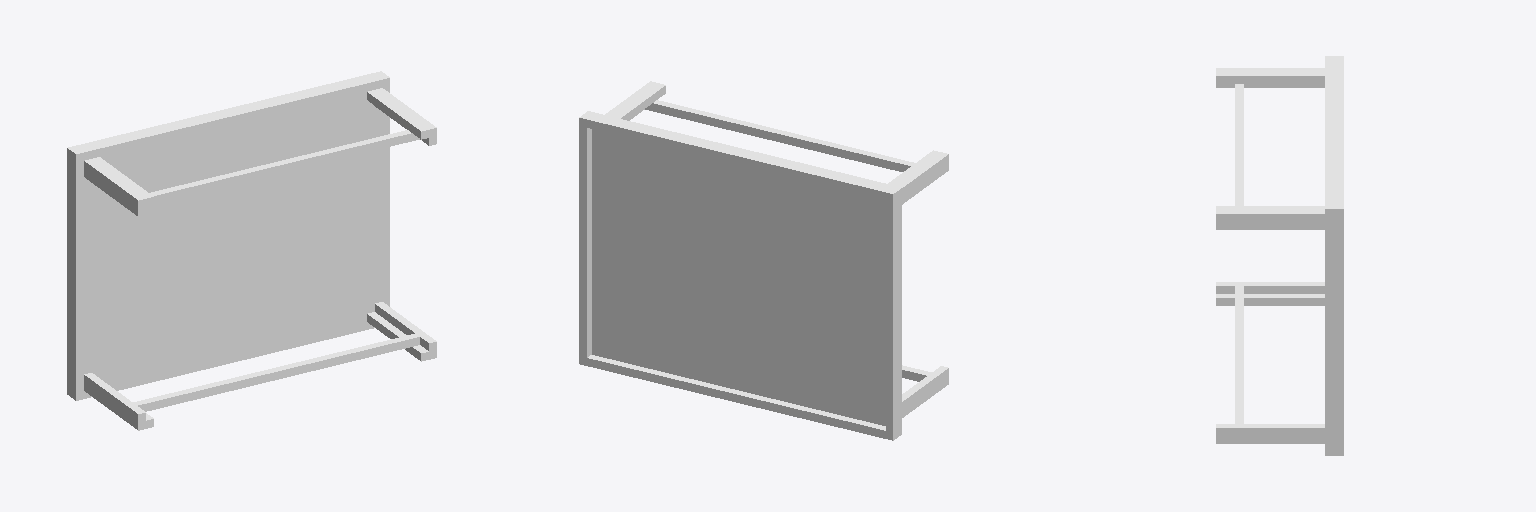
File: PongAssets-0.obj
3 renders of one model, left to right at view 1: azimuth 30°, elevation 25°; view 2: azimuth 150°, elevation 25°; view 3: azimuth 270°, elevation 25°, orthographic.
Visible parts, largest first — view 1: PongAssets-0; view 2: PongAssets-0; view 3: PongAssets-0.
Part boxes in pixels (left/top/right/bottom): PongAssets-0: left=67, top=71, right=436, bottom=430; PongAssets-0: left=579, top=81, right=948, bottom=440; PongAssets-0: left=1216, top=56, right=1343, bottom=455.
Size of the model in its own units: 40 by 30 by 14.